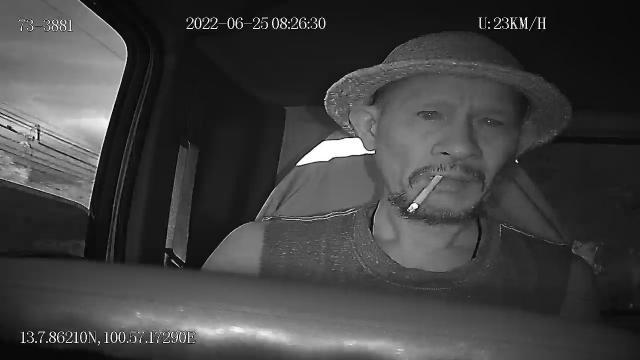SafeDriving: (410, 100, 450, 126), (469, 108, 512, 132)
Smoking: (410, 174, 442, 214)
